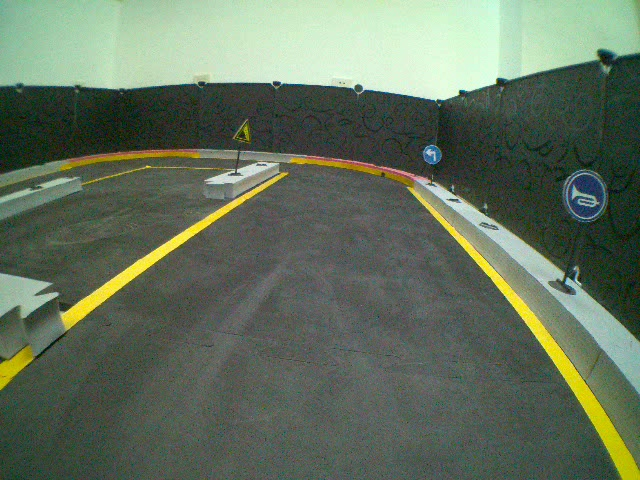fast: (232, 114, 254, 145)
horn: (559, 166, 610, 223)
turn: (422, 143, 442, 166)
